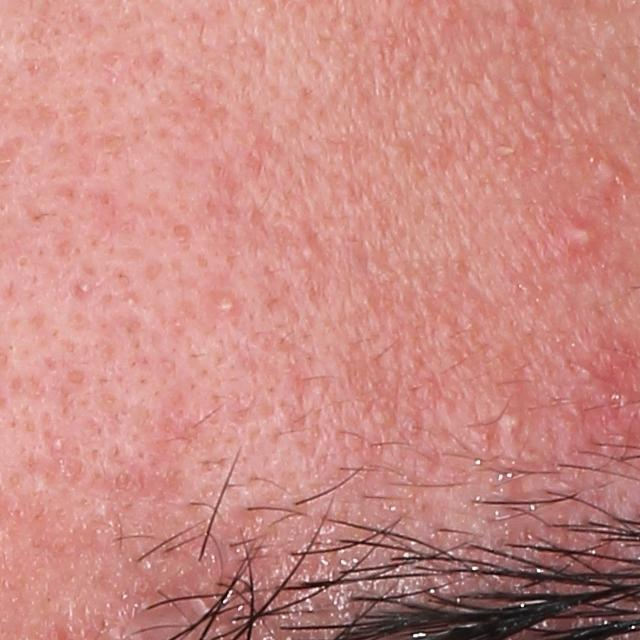comedo: (495, 413, 523, 436), (71, 278, 89, 301), (52, 437, 68, 451), (122, 296, 137, 309)
pustule: (554, 214, 615, 259), (211, 289, 245, 327)
